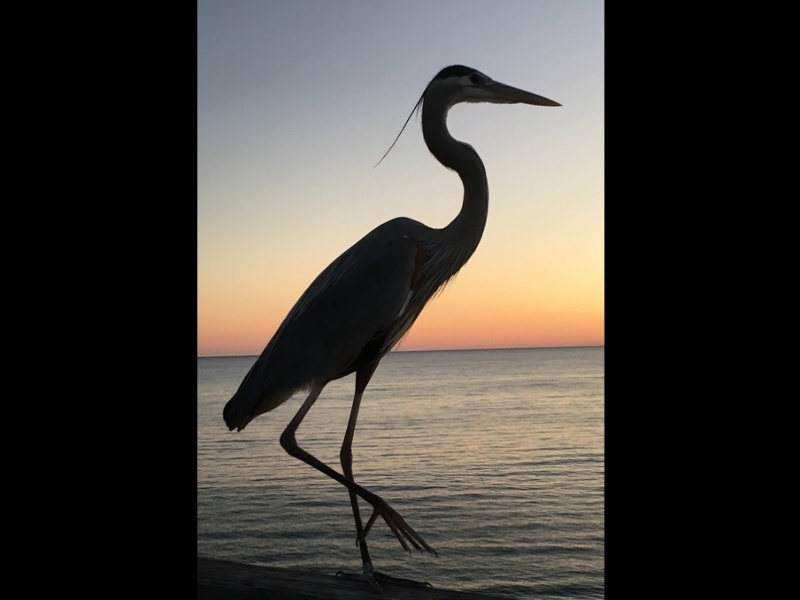heron: (221, 63, 562, 580)
